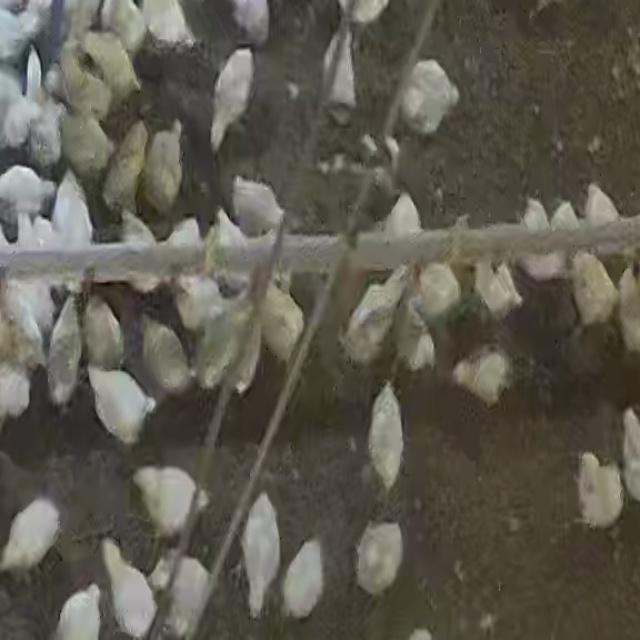chicken: (342, 265, 411, 365), (86, 364, 155, 450), (130, 463, 203, 543), (100, 538, 158, 638), (240, 490, 283, 620), (22, 44, 66, 170), (0, 494, 64, 579), (210, 45, 258, 151), (194, 299, 247, 394), (102, 120, 150, 219), (2, 279, 51, 374), (367, 382, 407, 498), (254, 278, 305, 368), (162, 553, 215, 638), (45, 293, 84, 408), (55, 180, 95, 290), (145, 119, 191, 214), (406, 56, 462, 132), (355, 518, 406, 600), (140, 318, 192, 398), (85, 29, 142, 100), (280, 537, 326, 622), (119, 208, 166, 291), (576, 451, 624, 530), (0, 163, 56, 228), (58, 106, 112, 173), (451, 348, 511, 408), (228, 175, 286, 237), (571, 252, 617, 328), (322, 28, 359, 122), (81, 292, 125, 371), (518, 197, 559, 281), (546, 199, 584, 278), (378, 190, 424, 243), (616, 266, 640, 355), (584, 184, 621, 232)
